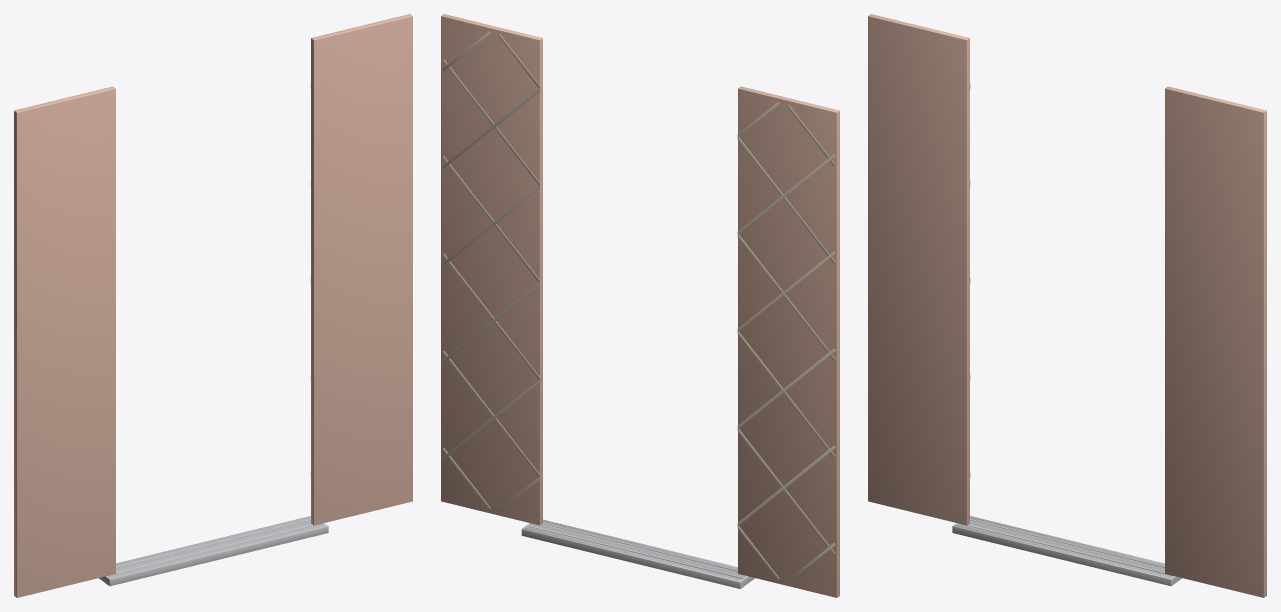
The model's file is cabin_door_TM024.glb.
The picture shows the model from 3 angles, left to right: view 1: azimuth 30°, elevation 25°; view 2: azimuth 150°, elevation 25°; view 3: azimuth 330°, elevation 25°; orthographic projection.
Visible parts, largest first — view 1: Car_Door_R, Car_Door_L, Door_Sill; view 2: Car_Door_L, Car_Door_R, Door_Sill; view 3: Car_Door_L, Car_Door_R, Door_Sill.
Boxes of the visible parts, x1,y1,x2,y2 form: Car_Door_R: [310, 14, 412, 525]; Car_Door_L: [14, 86, 115, 597]; Door_Sill: [98, 516, 328, 586]; Car_Door_L: [737, 86, 839, 597]; Car_Door_R: [441, 14, 542, 525]; Door_Sill: [521, 519, 754, 588]; Car_Door_L: [868, 14, 970, 525]; Car_Door_R: [1165, 86, 1266, 597]; Door_Sill: [952, 516, 1182, 586].
Size of the model in its own units: 1.81 by 2.15 by 0.12.
